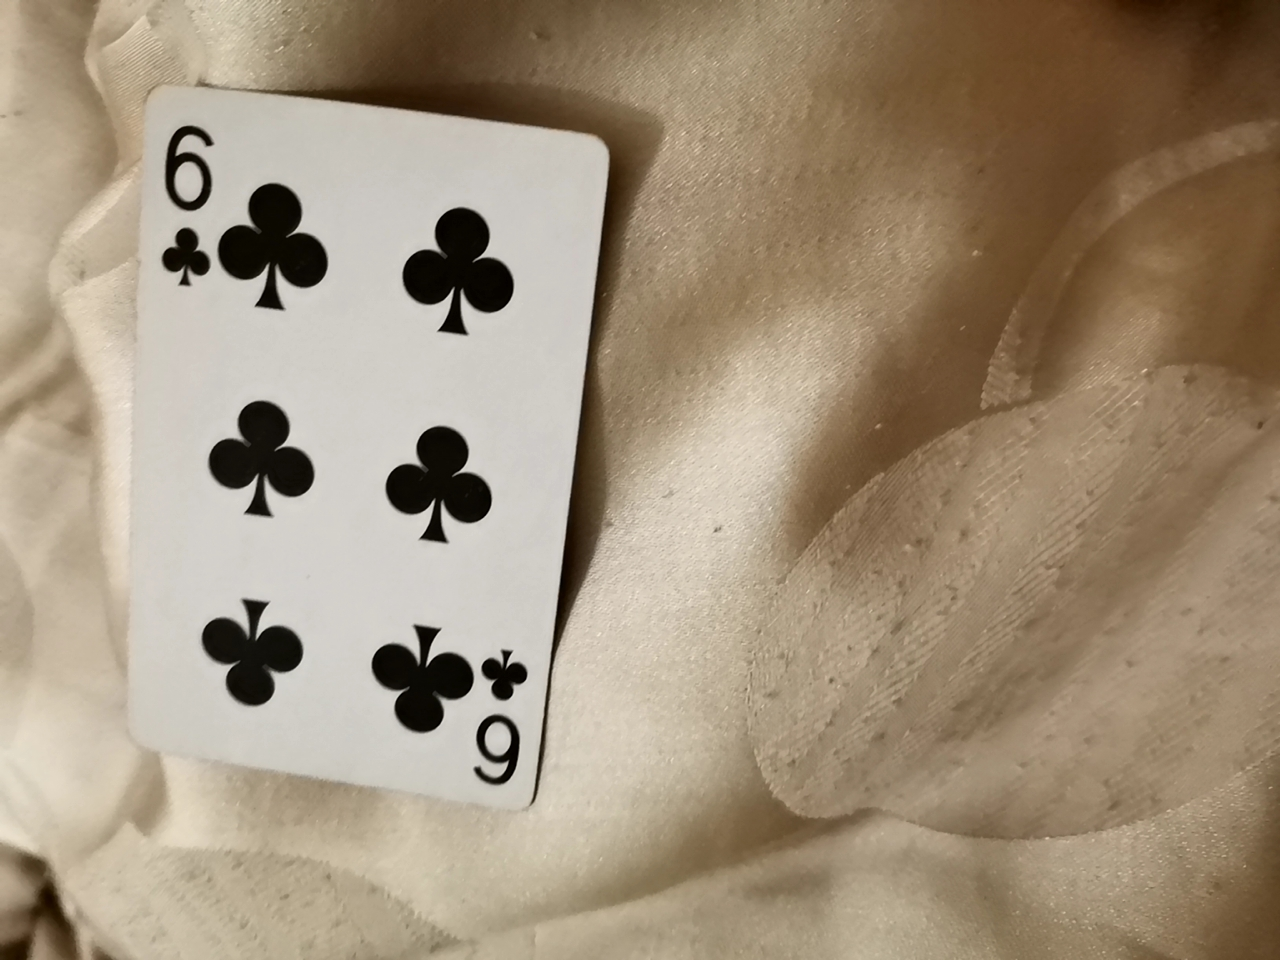mh 6: (91, 47, 597, 799)
